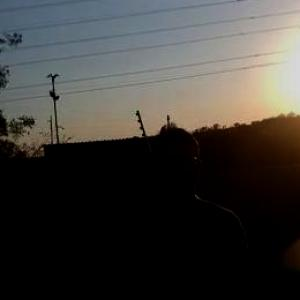follow: (121, 119, 269, 299)
